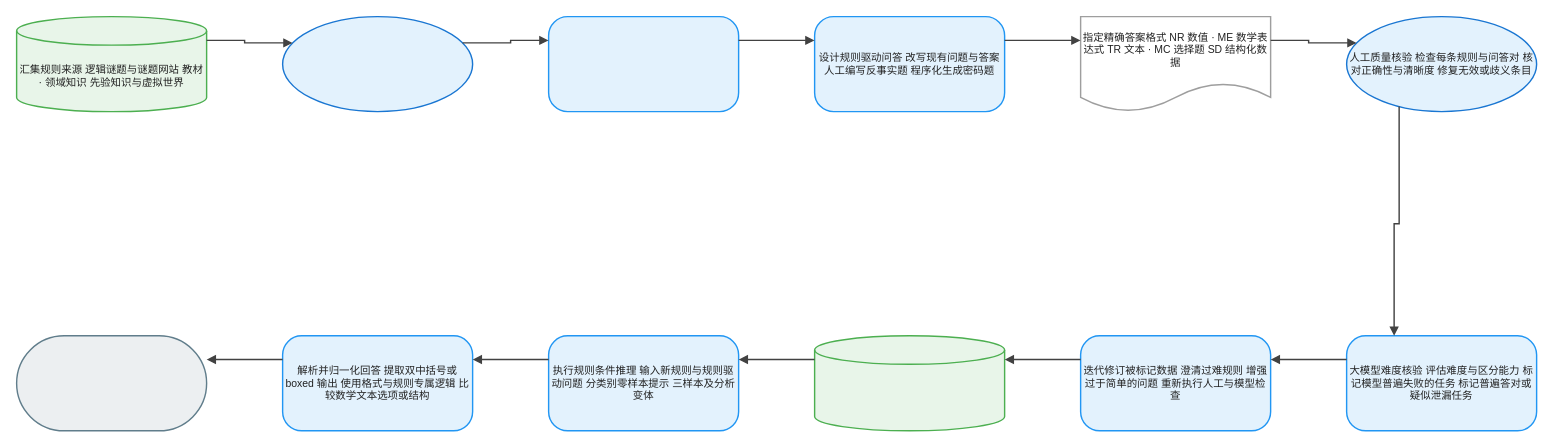
Some shapes in this 1554 by 448 pixel diagram are drawn without their labels. Each missing label, with the centre of its shape:
人工提取核心规则 自然语言规则描述 五个类别 · 每类 25 条规则 运算 · 逻辑 · 密码 · 谜题 · 反事实: the point at 377,63
发布 KOR-Bench · 1,250 题 125 条规则 · 每条十题 五个平衡类别各 250 题 规则 + 问题 + 标准答案: the point at 909,383
汇报精确准确率 1,250 题中的正确数量 总体及五类别得分 另报混合任务通过率: the point at 111,383
重定义以实现知识正交 新符号 · 新概念 · 新约束 调整执行步骤 引入全新故事背景: the point at 643,63
